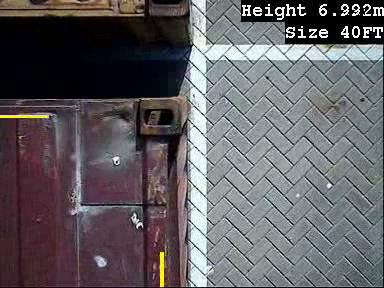groundmarker_2: (202, 97, 266, 199)
